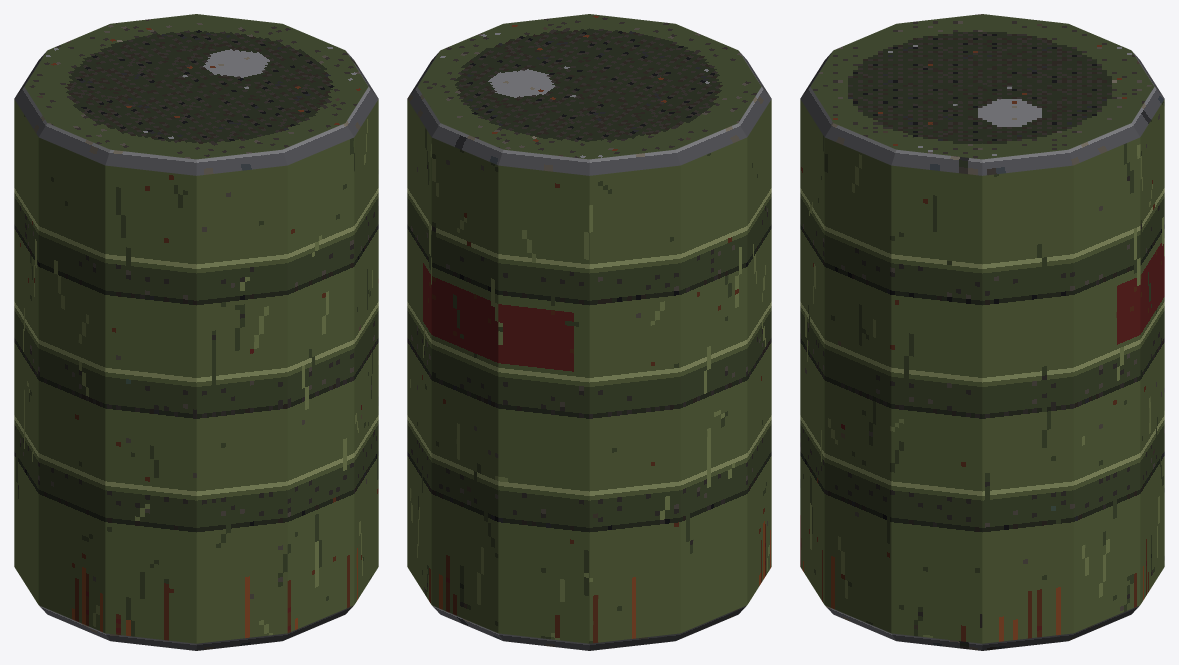
The model's file is SM_Prop_BarrelSteel_01.glb.
3 renders of one model, left to right at view 1: azimuth 30°, elevation 25°; view 2: azimuth 150°, elevation 25°; view 3: azimuth 270°, elevation 25°, orthographic.
Parts seen in each view (by area): view 1: SM_Prop_BarrelSteel_01; view 2: SM_Prop_BarrelSteel_01; view 3: SM_Prop_BarrelSteel_01.
Boxes of the visible parts, left/top/right/bottom form: SM_Prop_BarrelSteel_01: left=14, top=14, right=378, bottom=650; SM_Prop_BarrelSteel_01: left=407, top=14, right=771, bottom=650; SM_Prop_BarrelSteel_01: left=800, top=14, right=1164, bottom=650.
Bounding box in the file's own units: 0.572 × 0.851 × 0.572.
1 material, 1 textured.
